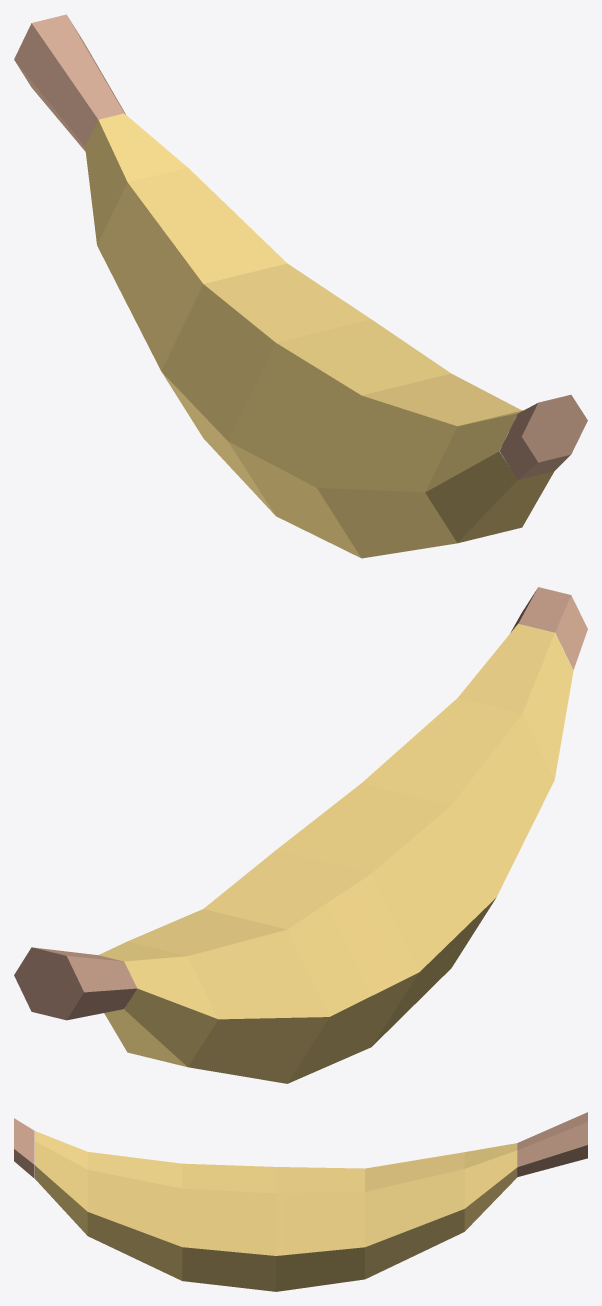
The model's file is banana.gltf.
The picture shows the model from 3 angles, top to bottom: view 1: azimuth 30°, elevation 25°; view 2: azimuth 150°, elevation 25°; view 3: azimuth 270°, elevation 25°; orthographic projection. The views are drawn at different scales.
Visible parts, largest first — view 1: banana; view 2: banana; view 3: banana.
Boxes of the visible parts, x1,y1,x2,y2 form: banana: [14, 14, 587, 558]; banana: [14, 587, 587, 1083]; banana: [14, 1112, 587, 1291].
Bounding box in the file's own units: 0.1376 × 0.1958 × 0.6299.
